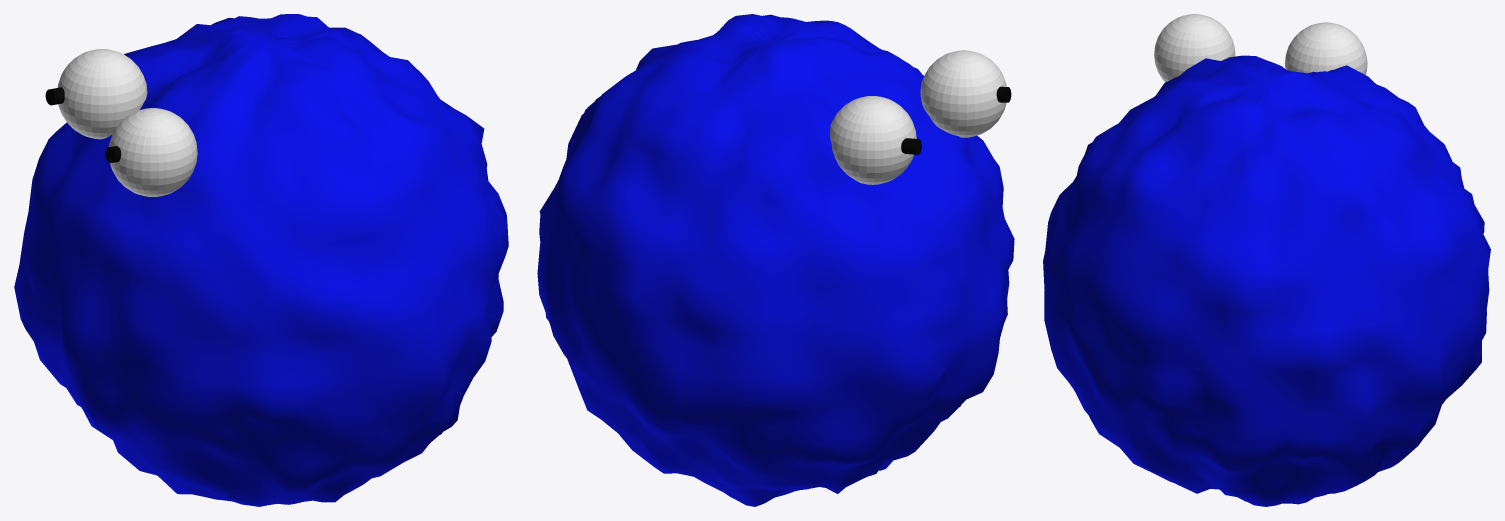
File: Slimeplayer.fbx
3 renders of one model, left to right at view 1: azimuth 30°, elevation 25°; view 2: azimuth 150°, elevation 25°; view 3: azimuth 270°, elevation 25°, orthographic. The views are drawn at different scales.
Visible parts, largest first — view 1: Slime, eyeball 1, eyeball 2; view 2: Slime, eyeball 2, eyeball 1; view 3: Slime, eyeball 1, eyeball 2.
Boxes of the visible parts, x1,y1,x2,y2 form: Slime: [14, 14, 508, 506]; eyeball 1: [109, 108, 197, 196]; eyeball 2: [57, 49, 147, 139]; Slime: [537, 14, 1014, 506]; eyeball 2: [830, 96, 916, 184]; eyeball 1: [920, 50, 1006, 137]; Slime: [1043, 55, 1490, 506]; eyeball 1: [1154, 14, 1235, 82]; eyeball 2: [1284, 22, 1367, 74].
Bounding box in the file's own units: 202 × 204 × 203.
